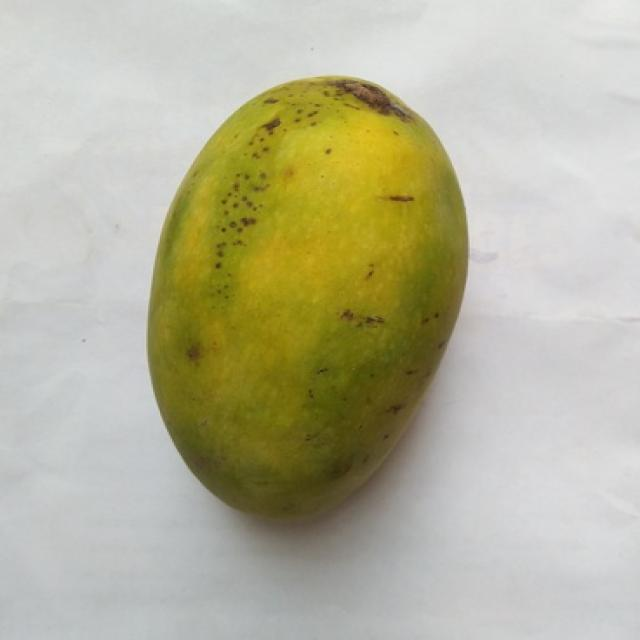Mango: (148, 77, 464, 515)
